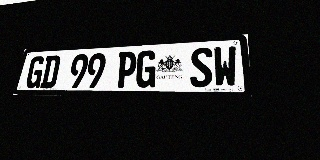9: (85, 53, 107, 88), (67, 54, 89, 88)
D: (40, 55, 61, 88)
G: (135, 50, 157, 88), (24, 56, 46, 88)
P: (115, 51, 137, 88)
S: (190, 47, 213, 87)
W: (213, 46, 238, 87)
